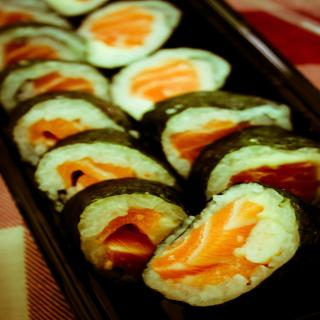Sushi: (0, 0, 320, 318), (148, 102, 308, 192)
